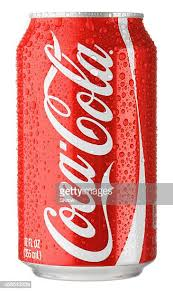can: (13, 4, 161, 286)
